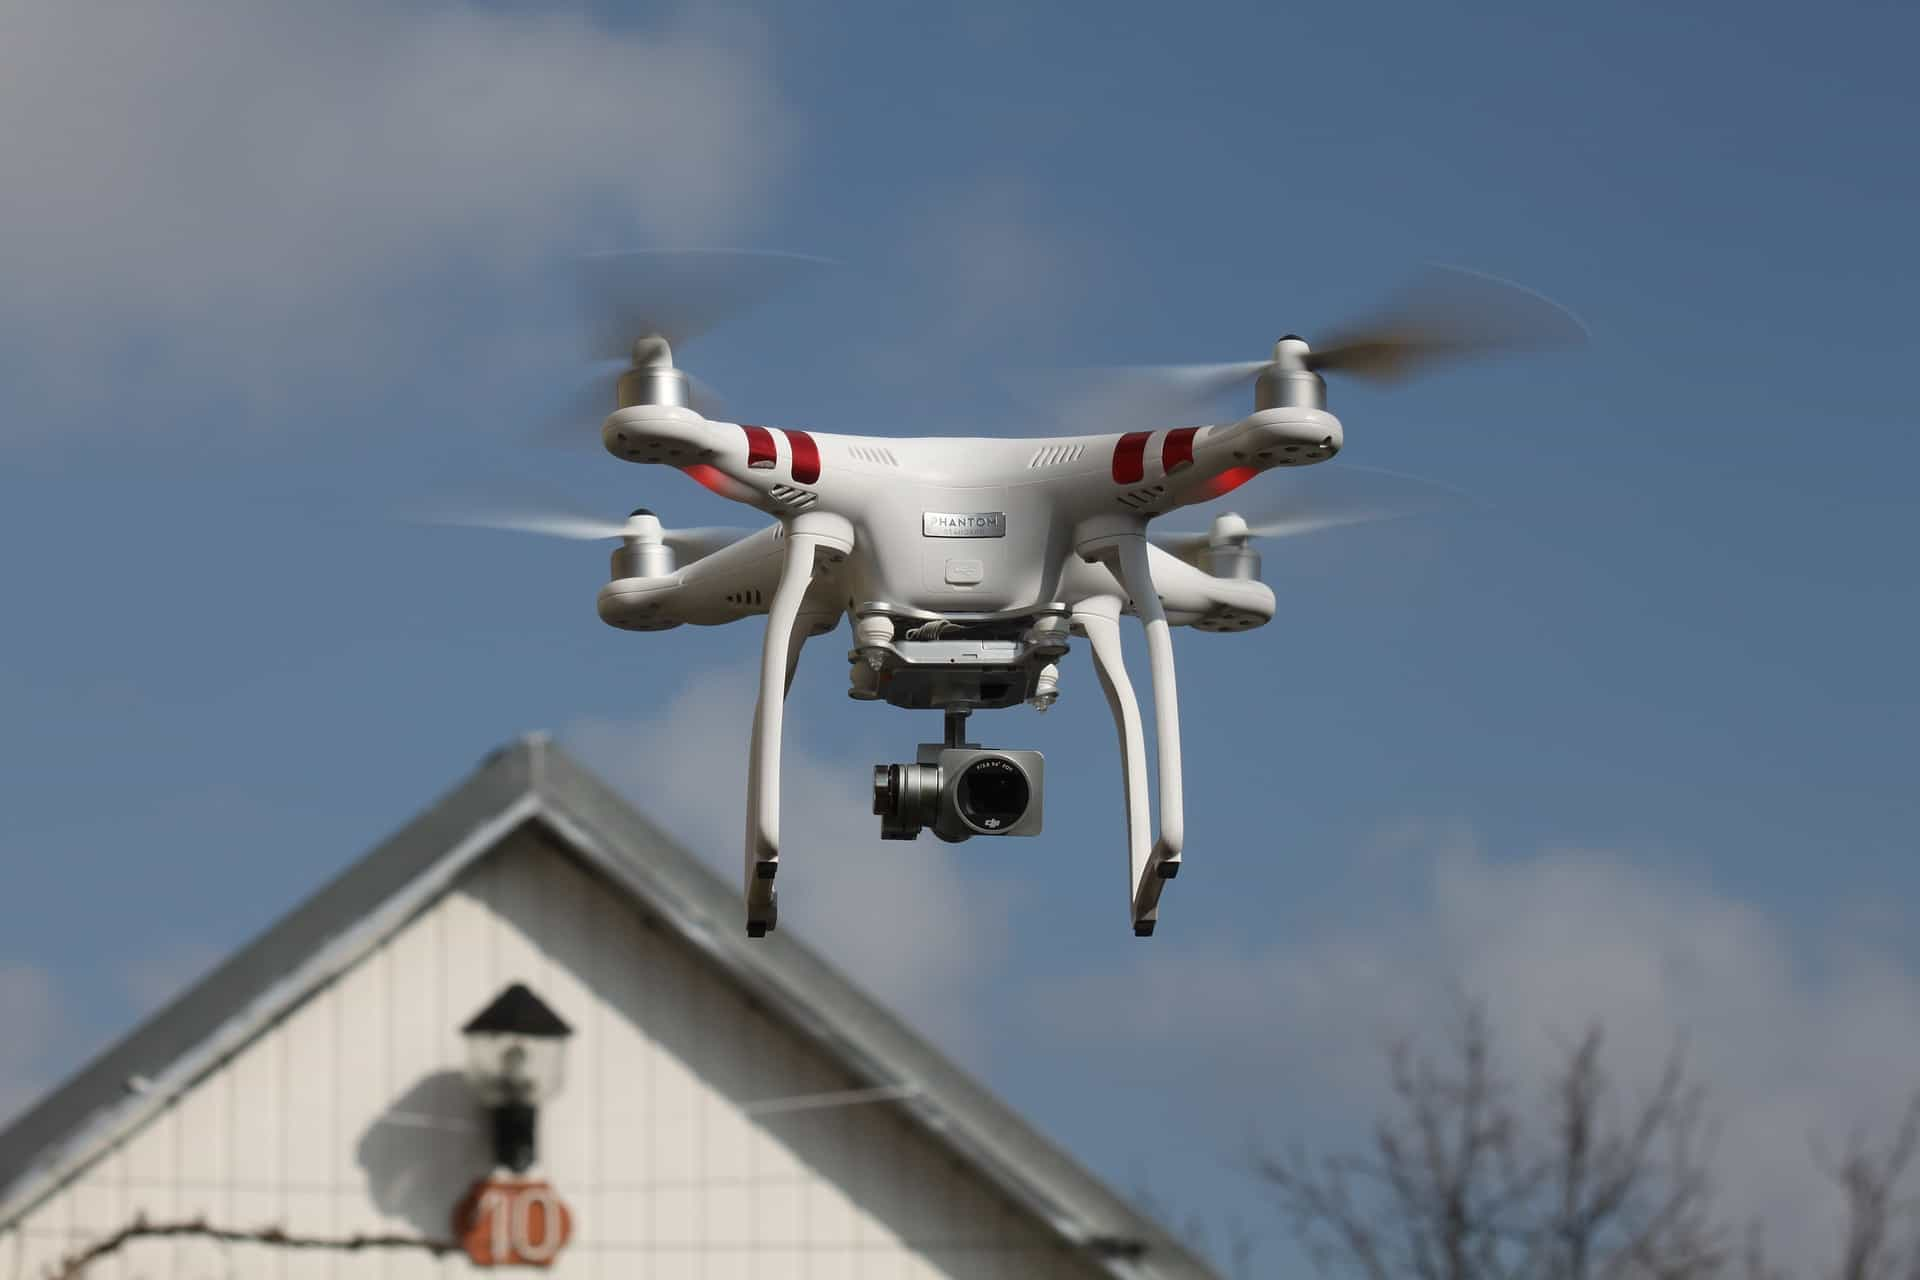drone: (364, 216, 1626, 966)
